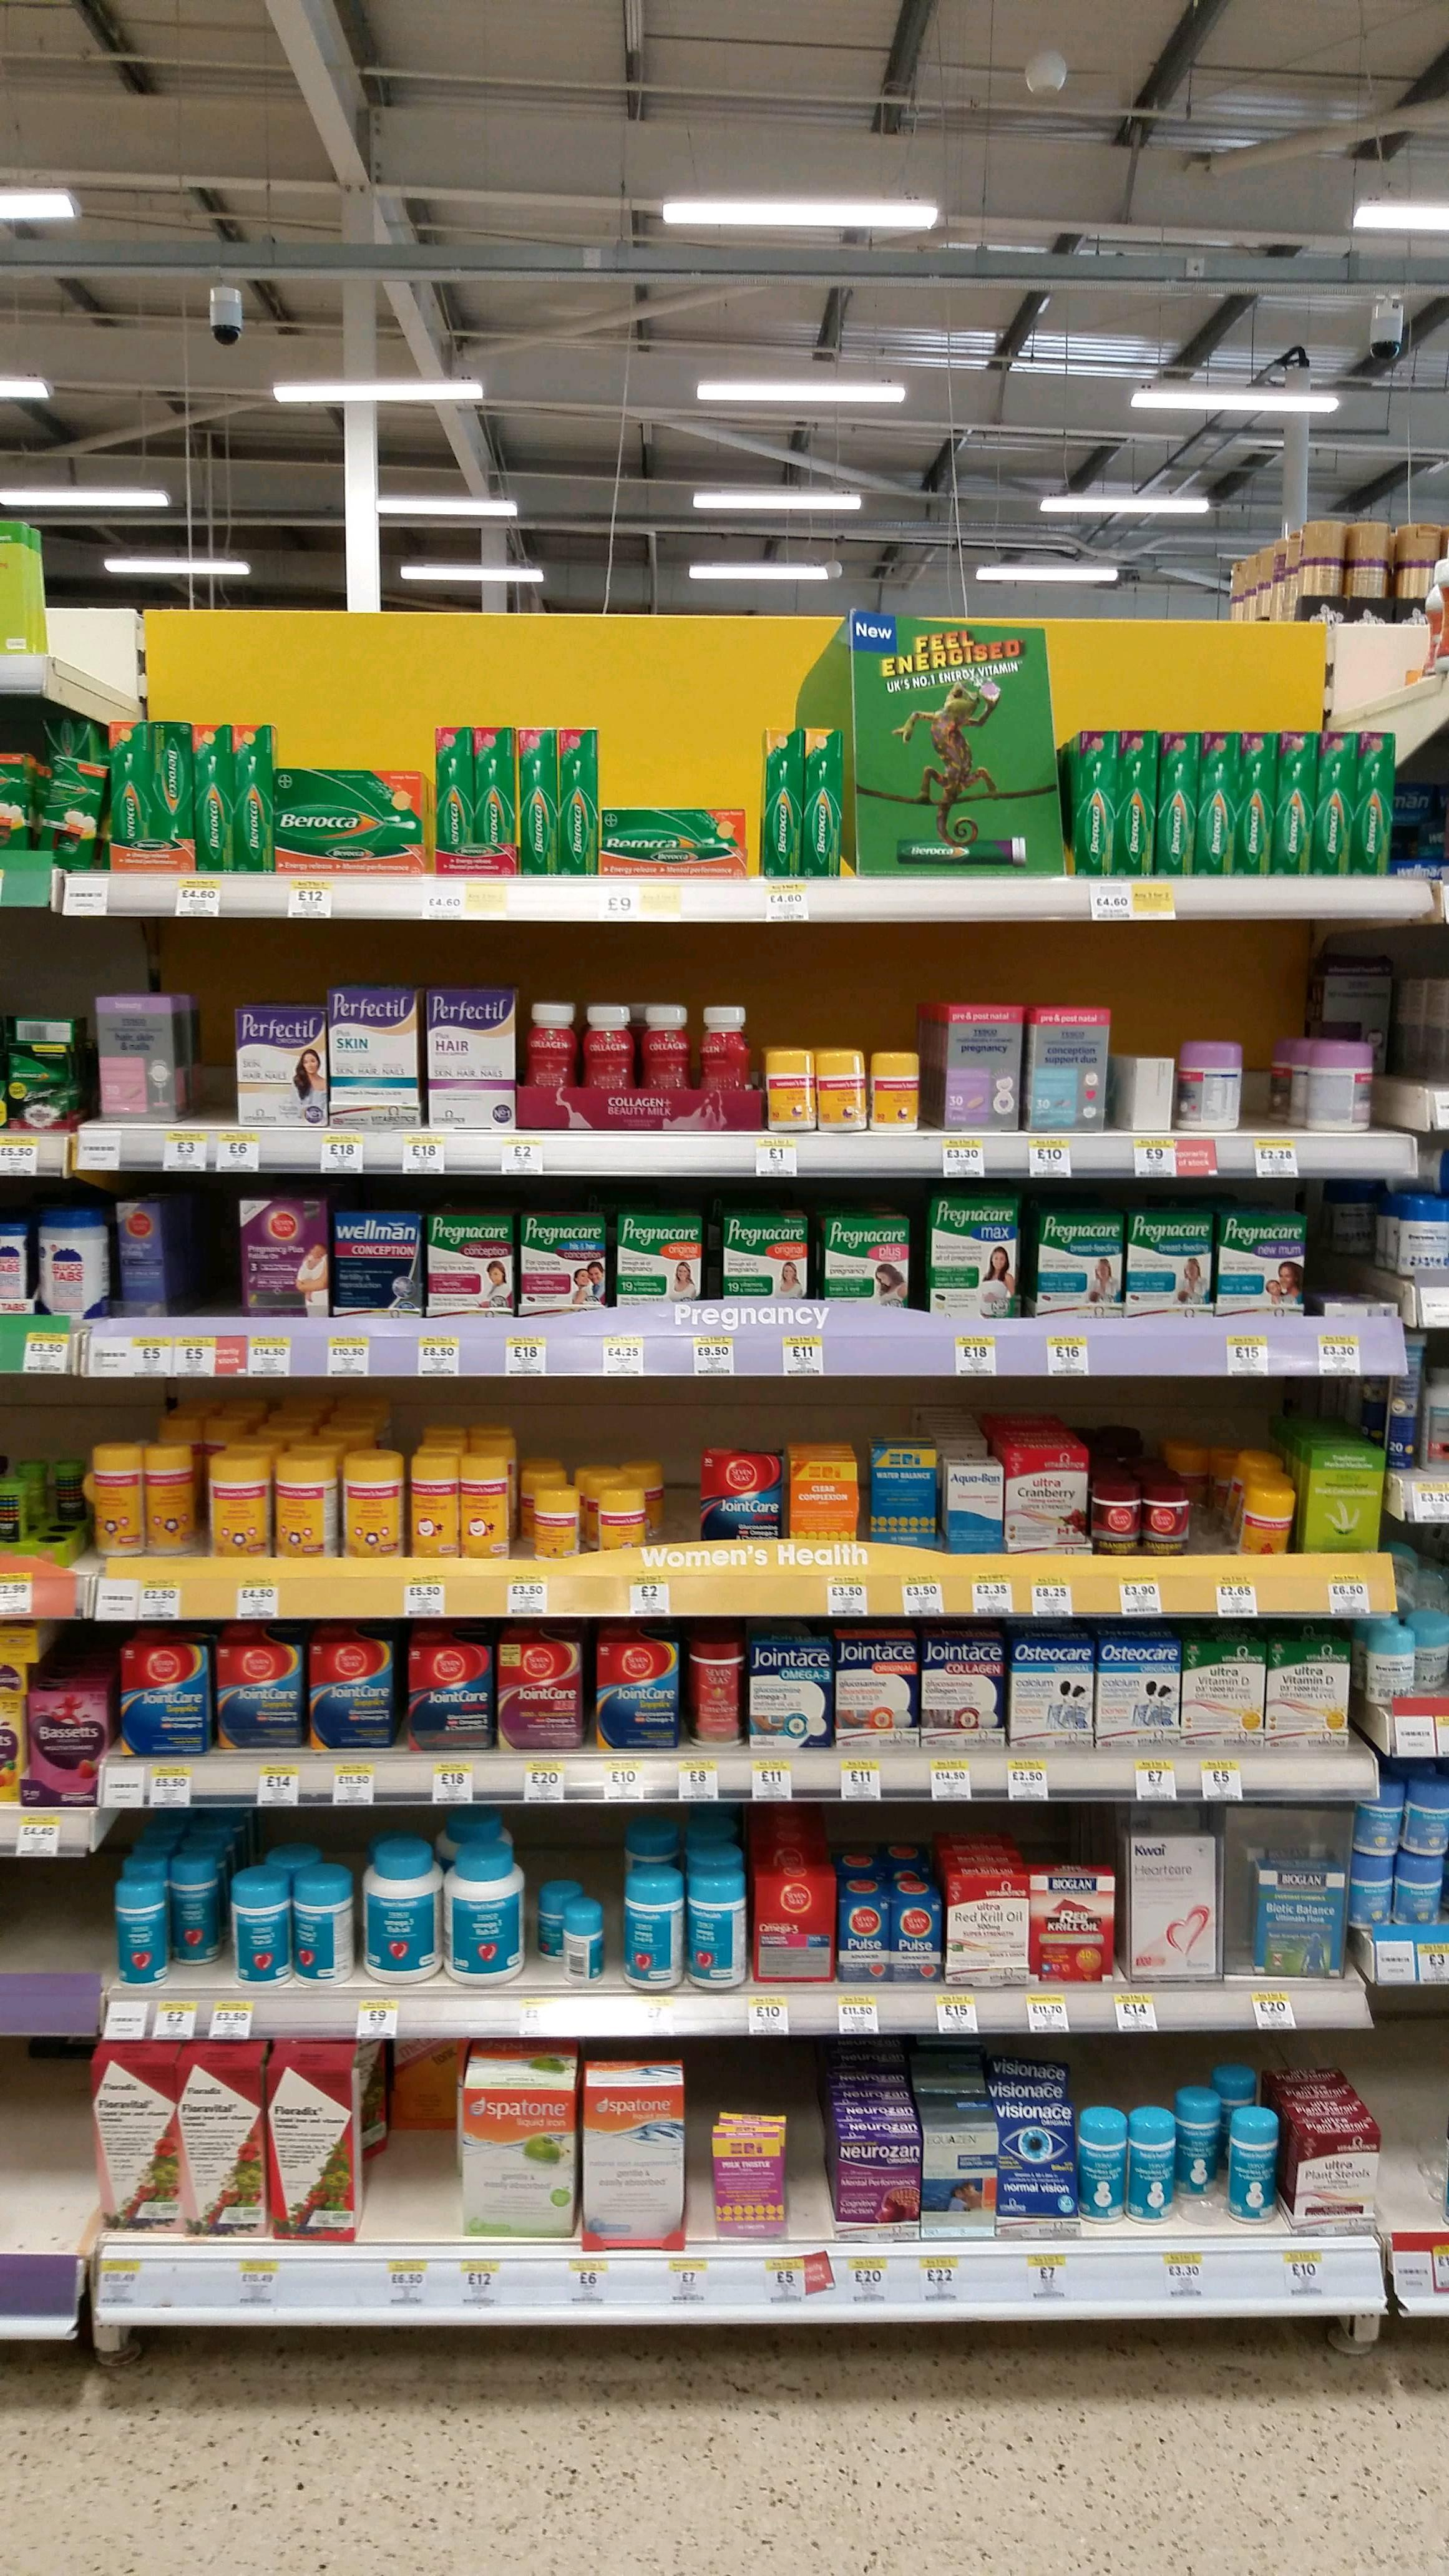misalignment: (536, 1872, 607, 1996), (1113, 1040, 1177, 1134)
